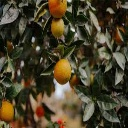orange: (52, 54, 73, 86), (0, 96, 15, 124), (47, 1, 68, 18)
